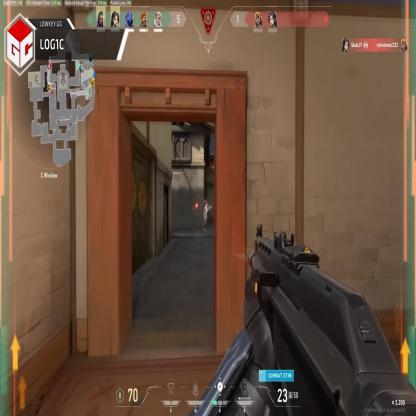enemy: (202, 200, 212, 233)
enemy_head: (206, 200, 209, 207)
